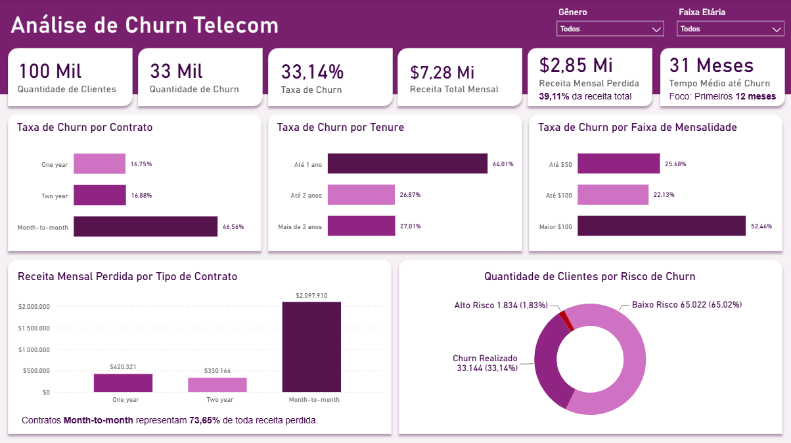

What the dashboard file says about the page in this screenshot:
{"tool":"powerbi","page":{"name":"Churn","canvas":[1280,720],"ordinal":0},"visuals":[{"type":"cardVisual","fields":{"Data":["Medidas.Qtd Clientes"]},"box":[1.6,78.6,224.3,96.6],"z":0},{"type":"cardVisual","fields":{"Data":["Medidas.Qtd Churn"]},"box":[214.5,78.6,208,96.6],"z":1000},{"type":"cardVisual","fields":{"Data":["Medidas.Taxa de Churn"]},"box":[425.8,80.2,196.5,96.6],"z":2000},{"type":"cardVisual","fields":{"Data":["Medidas.Receita Mensal Perdida"]},"box":[843.3,68.8,235.8,96.6],"z":3000},{"type":"cardVisual","fields":{"Data":["Medidas.Tempo Médio até Churn"]},"box":[1052.5,68.4,227.5,97],"z":4000},{"type":"clusteredBarChart","title":"Taxa de Churn por Contrato","fields":{"Category":["Churn_Dashboards.Contract"],"Y":["Medidas.Taxa de Churn"]},"box":[24.1,196.9,401.1,216.1],"z":5000},{"type":"clusteredBarChart","title":"Taxa de Churn por Tenure","fields":{"Y":["Medidas.Taxa de Churn"],"Category":["Churn_Dashboards.Faixa Tenure"]},"box":[443.8,197.6,392.9,214.7],"z":6000},{"type":"clusteredBarChart","title":"Taxa de Churn por Faixa de Mensalidade","fields":{"Y":["Medidas.Taxa de Churn"],"Category":["Churn_Dashboards.Faixa MonthlyCharges"]},"box":[865.3,197.6,388.1,214.7],"z":7000},{"type":"columnChart","title":"Receita Mensal Perdida por Tipo de Contrato","fields":{"Y":["Medidas.Receita Mensal Perdida"],"Category":["Churn_Dashboards.Contract"]},"box":[25.9,439.6,601.2,224.1],"z":8000},{"type":"donutChart","title":"Quantidade de Clientes por Risco de Churn","fields":{"Category":["Churn_Dashboards.Risco de Churn"],"Y":["Medidas.Qtd Clientes"]},"box":[655.3,439,598.1,265.6],"z":9000},{"type":"cardVisual","title":"Receita Total Mensal","fields":{"Data":["Medidas.Receita Total Mensal"]},"box":[635.4,85.2,214.5,86.8],"z":10000},{"type":"enlightenDataStoryDDFB78A6143E42CFAFBC50CCF18D978D","fields":{"measure":["Medidas.Contrato com maior receita perdida","Medidas.% Contrato Maior Receita Perdida"]},"box":[32.1,669.8,594.1,34.4],"z":11000},{"type":"enlightenDataStoryDDFB78A6143E42CFAFBC50CCF18D978D","fields":{"measure":["Medidas.% Receita Perdida"]},"box":[866.3,144.1,183.4,37.7],"z":12000},{"type":"enlightenDataStoryDDFB78A6143E42CFAFBC50CCF18D978D","fields":{"measure":["Medidas.Foco Churn"]},"box":[1076.9,144.1,203.1,37.7],"z":13000},{"type":"slicer","fields":{"Values":["Churn_Dashboards.Faixa Etária"]},"box":[1084.7,8.5,193.2,78],"z":14000},{"type":"slicer","fields":{"Values":["Churn_Dashboards.Gender"]},"box":[891.5,8.5,193.2,78],"z":15000}]}

Visuals, with their boxes in screenshot pixels (x1, y1, x2, y2), scaled from the page's 1280x720 canvas onto the 791x443 screenshot:
cardVisual - Medidas.Qtd Clientes: box(1, 48, 140, 108)
cardVisual - Medidas.Qtd Churn: box(133, 48, 261, 108)
cardVisual - Medidas.Taxa de Churn: box(263, 49, 385, 109)
cardVisual - Medidas.Receita Mensal Perdida: box(521, 42, 667, 102)
cardVisual - Medidas.Tempo Médio até Churn: box(650, 42, 790, 102)
"Taxa de Churn por Contrato" clusteredBarChart: box(15, 121, 263, 254)
"Taxa de Churn por Tenure" clusteredBarChart: box(274, 122, 517, 254)
"Taxa de Churn por Faixa de Mensalidade" clusteredBarChart: box(535, 122, 775, 254)
"Receita Mensal Perdida por Tipo de Contrato" columnChart: box(16, 270, 388, 408)
"Quantidade de Clientes por Risco de Churn" donutChart: box(405, 270, 775, 434)
"Receita Total Mensal" cardVisual: box(393, 52, 525, 106)
enlightenDataStoryDDFB78A6143E42CFAFBC50CCF18D978D - Medidas.Contrato com maior receita perdida x Medidas.% Contrato Maior Receita Perdida: box(20, 412, 387, 433)
enlightenDataStoryDDFB78A6143E42CFAFBC50CCF18D978D - Medidas.% Receita Perdida: box(535, 89, 649, 112)
enlightenDataStoryDDFB78A6143E42CFAFBC50CCF18D978D - Medidas.Foco Churn: box(665, 89, 790, 112)
slicer - Churn_Dashboards.Faixa Etária: box(670, 5, 790, 53)
slicer - Churn_Dashboards.Gender: box(551, 5, 670, 53)
